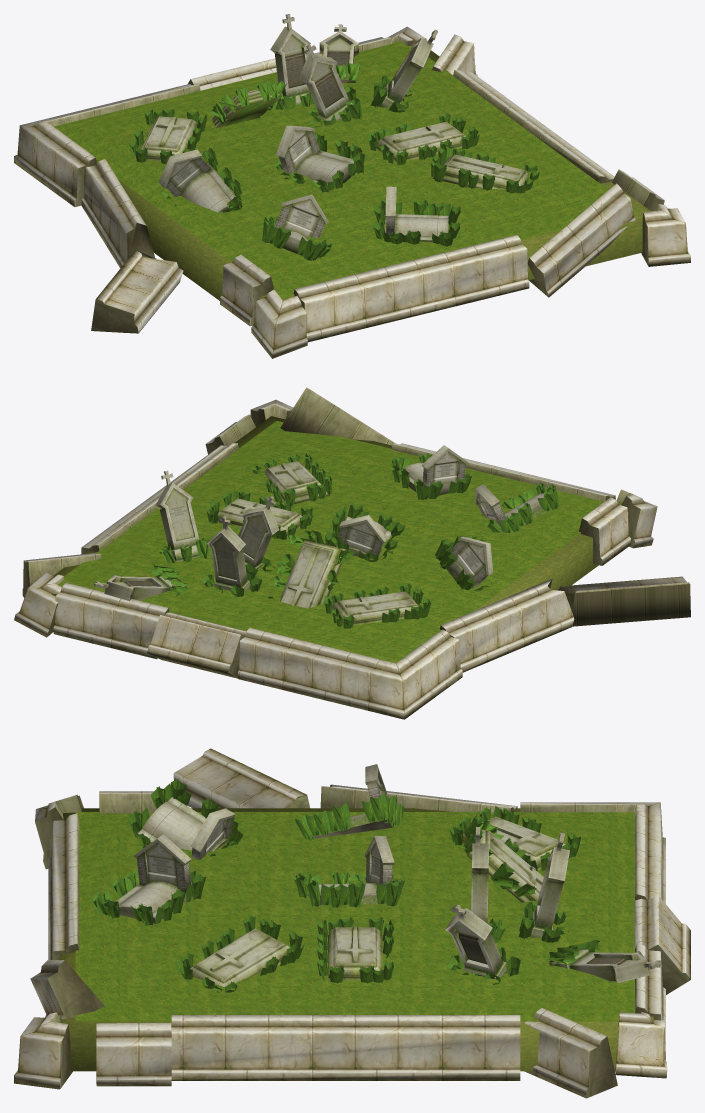
File: a_SWTpart04a.glb
3 renders of one model, top to bottom at view 1: azimuth 30°, elevation 25°; view 2: azimuth 150°, elevation 25°; view 3: azimuth 270°, elevation 25°, orthographic. The views are drawn at different scales.
Visible parts, largest first — view 1: a_SWTpart04a; view 2: a_SWTpart04a; view 3: a_SWTpart04a.
Boxes of the visible parts, box(x1,y1,x2,y2) form: a_SWTpart04a: box(14, 14, 690, 358); a_SWTpart04a: box(14, 387, 690, 719); a_SWTpart04a: box(14, 748, 690, 1098).
Bounding box in the file's own units: 12.15 × 2.96 × 10.96.
Materials: 9 (9 with a texture image).
